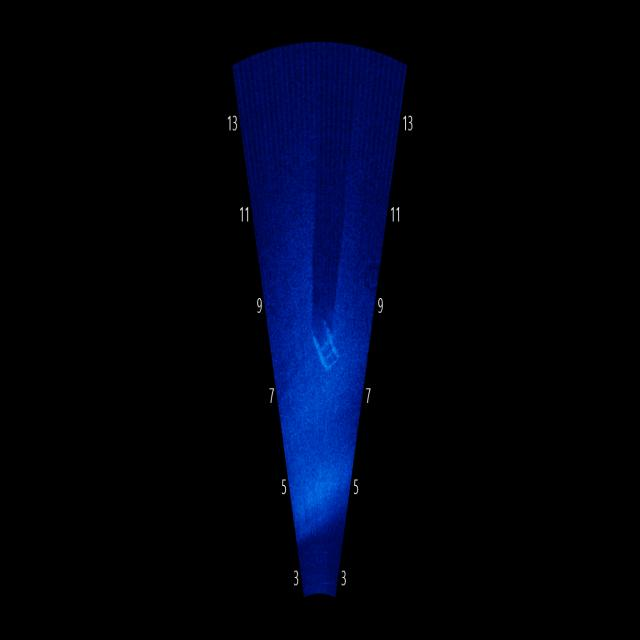square: (311, 308, 346, 375)
